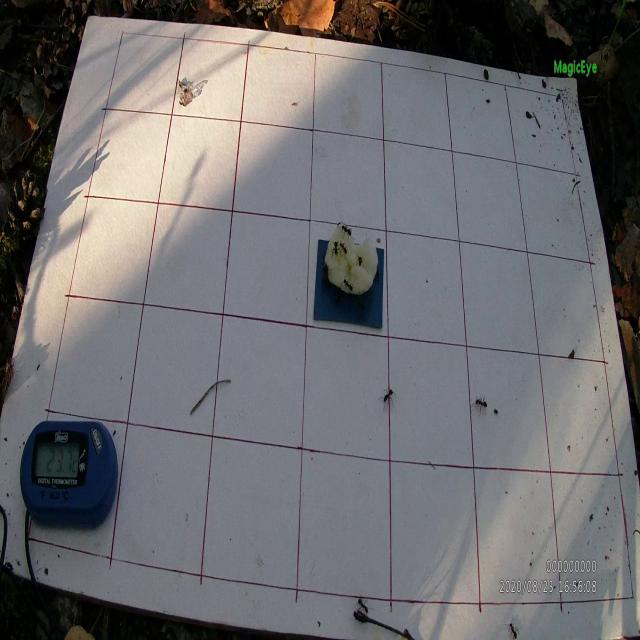Ant: (378, 389, 396, 410), (505, 615, 520, 640), (471, 395, 487, 416), (356, 598, 374, 616), (342, 276, 354, 294), (341, 225, 352, 243), (330, 240, 340, 258), (338, 242, 349, 254), (356, 254, 364, 266)
